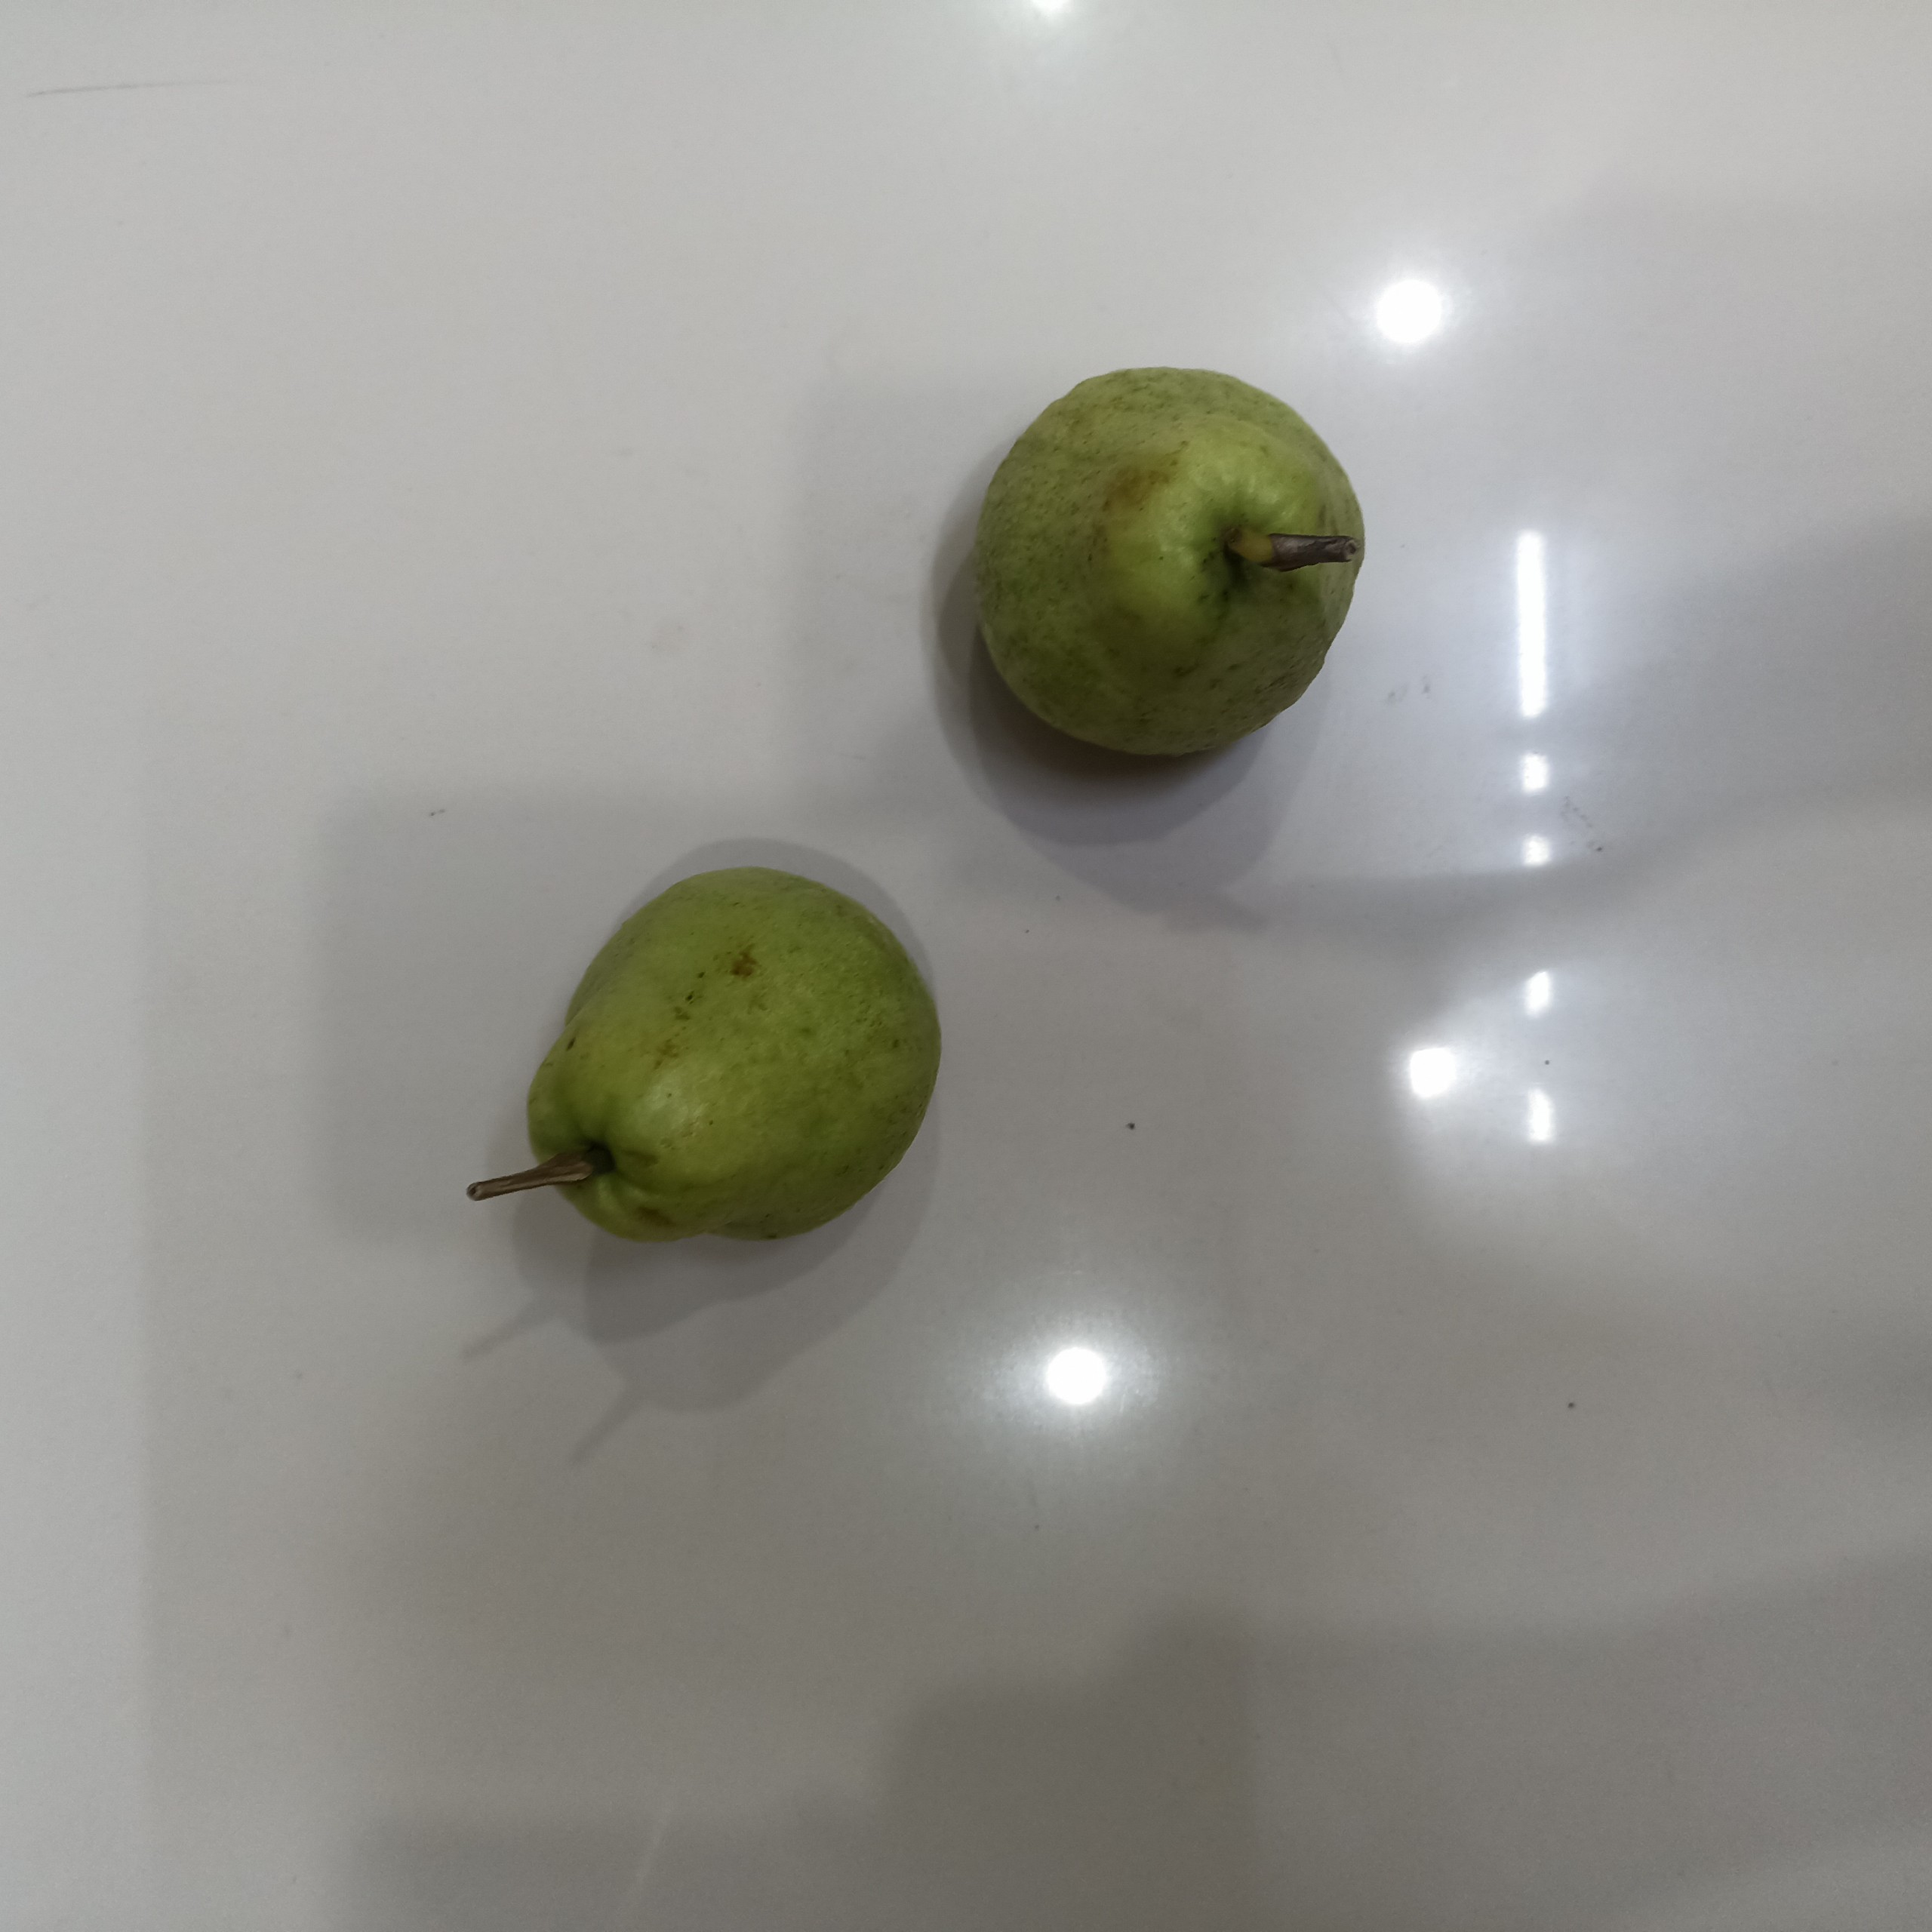Oi: (510, 865, 939, 1246), (966, 366, 1369, 755)
